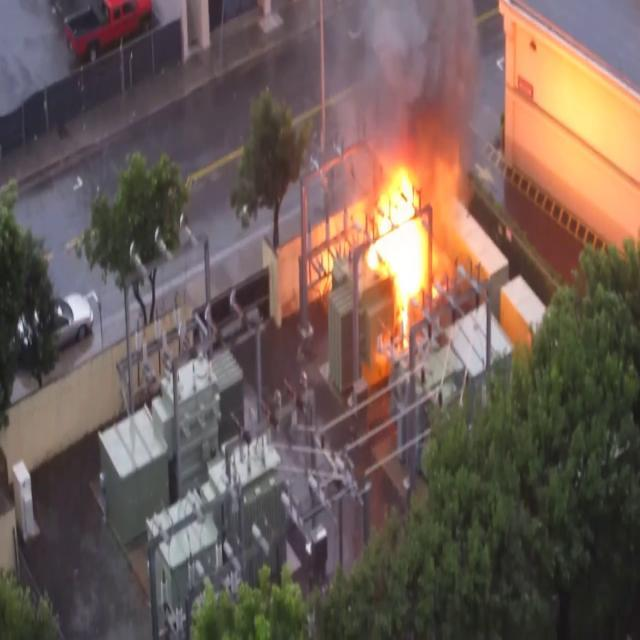Fire: (310, 158, 442, 318)
Smoke: (271, 0, 489, 176)
